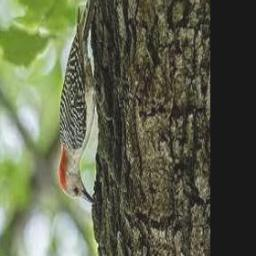Woodpecker: (59, 0, 114, 205)
